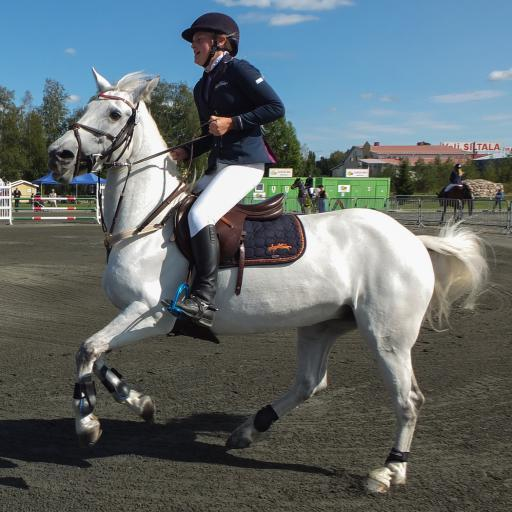horse: (47, 67, 492, 493)
